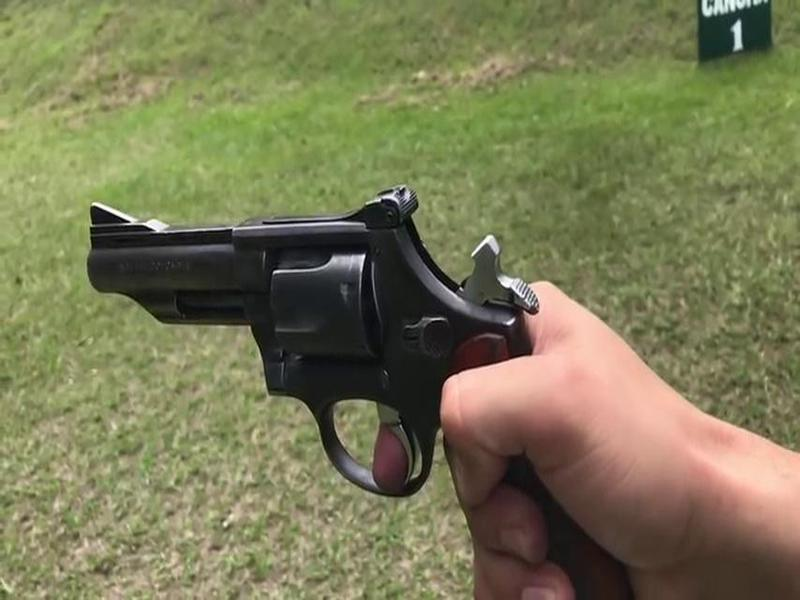Revolver: (68, 178, 548, 516)
